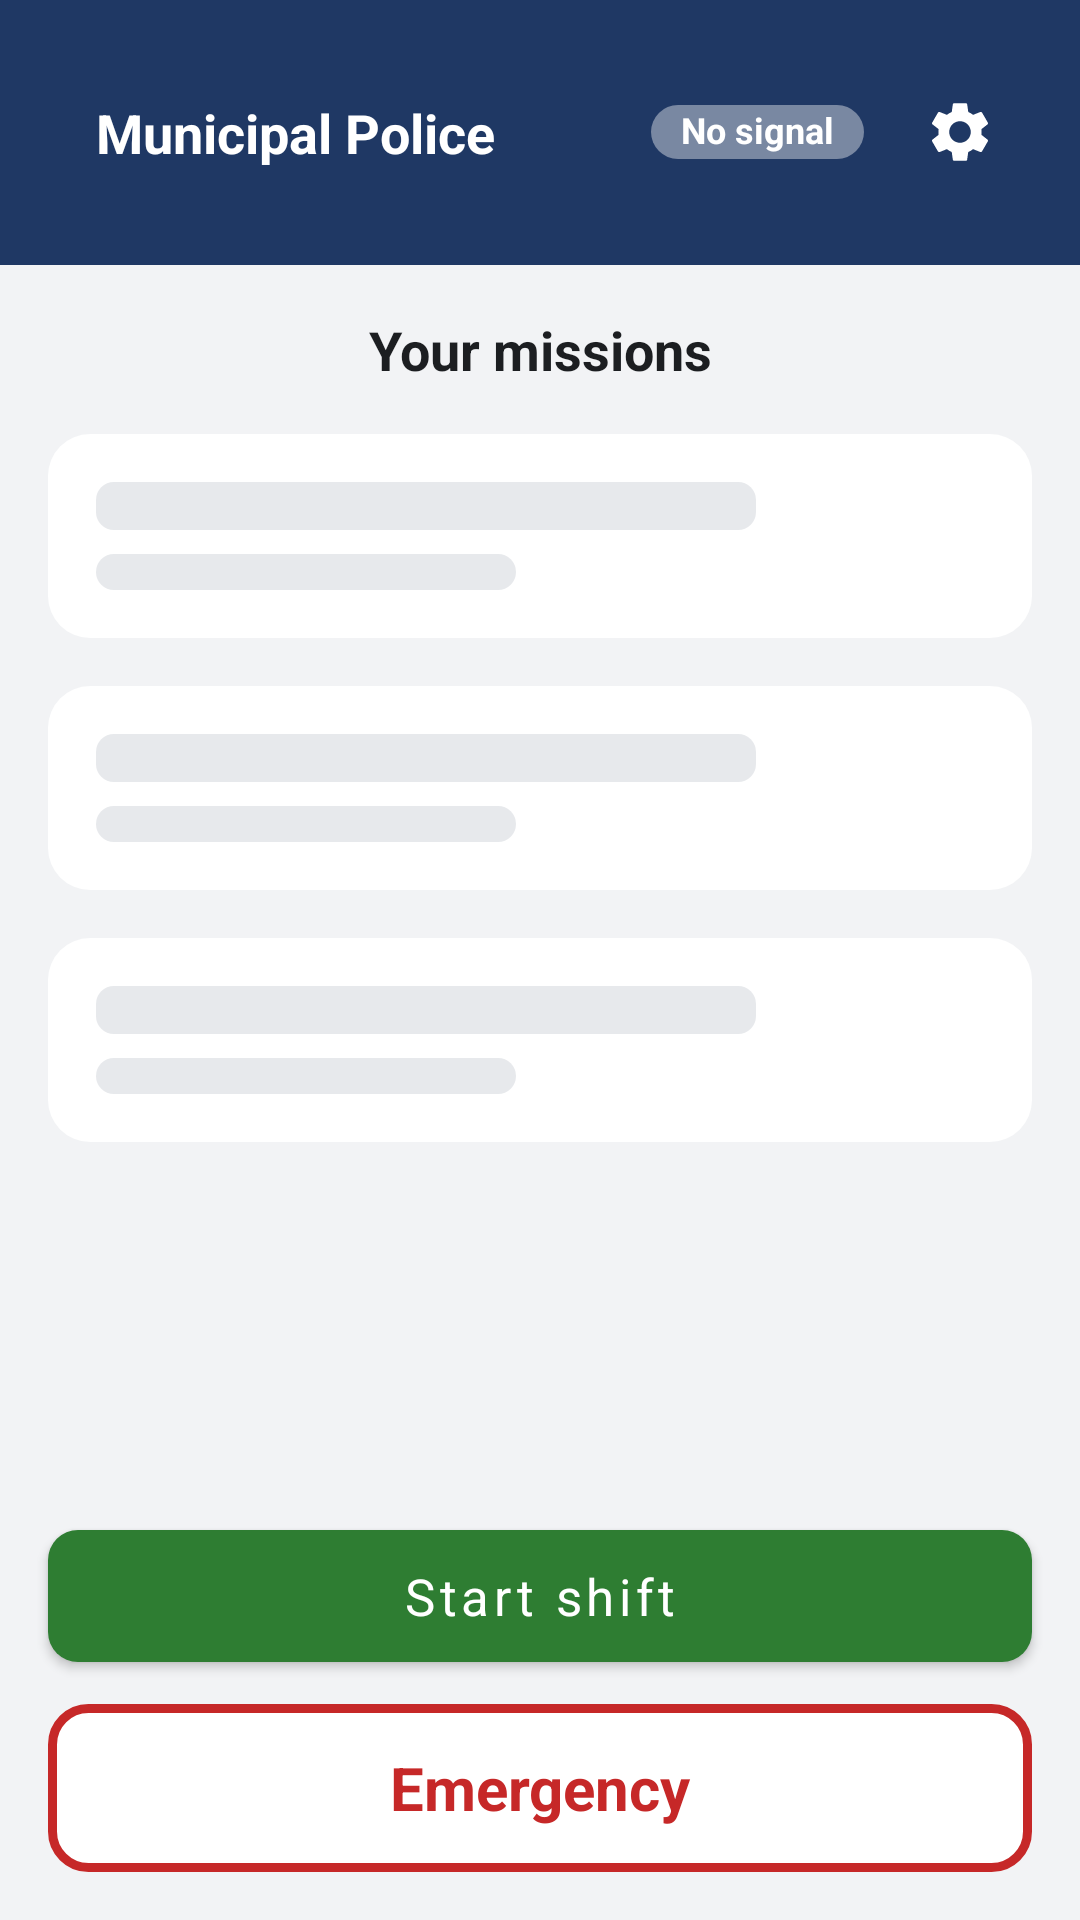

Icon click points for this 1080w x 1920h phone screenshot, format [x,y]:
Settings: [960,132]
